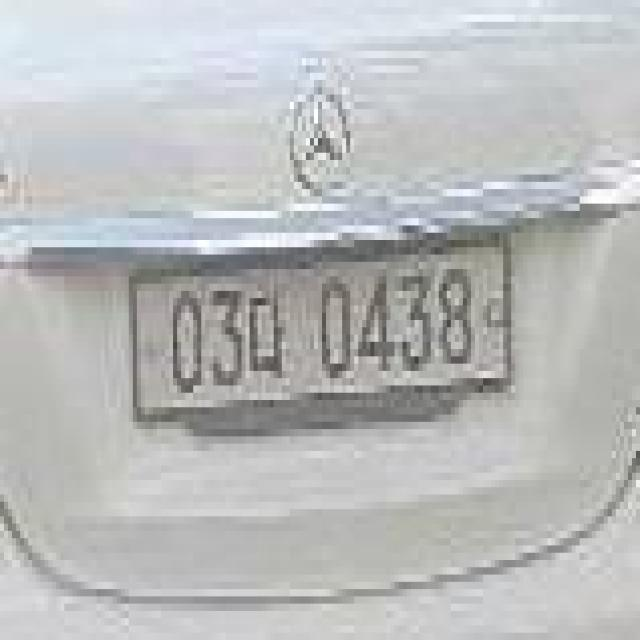illegal_plate: (128, 235, 514, 434)
